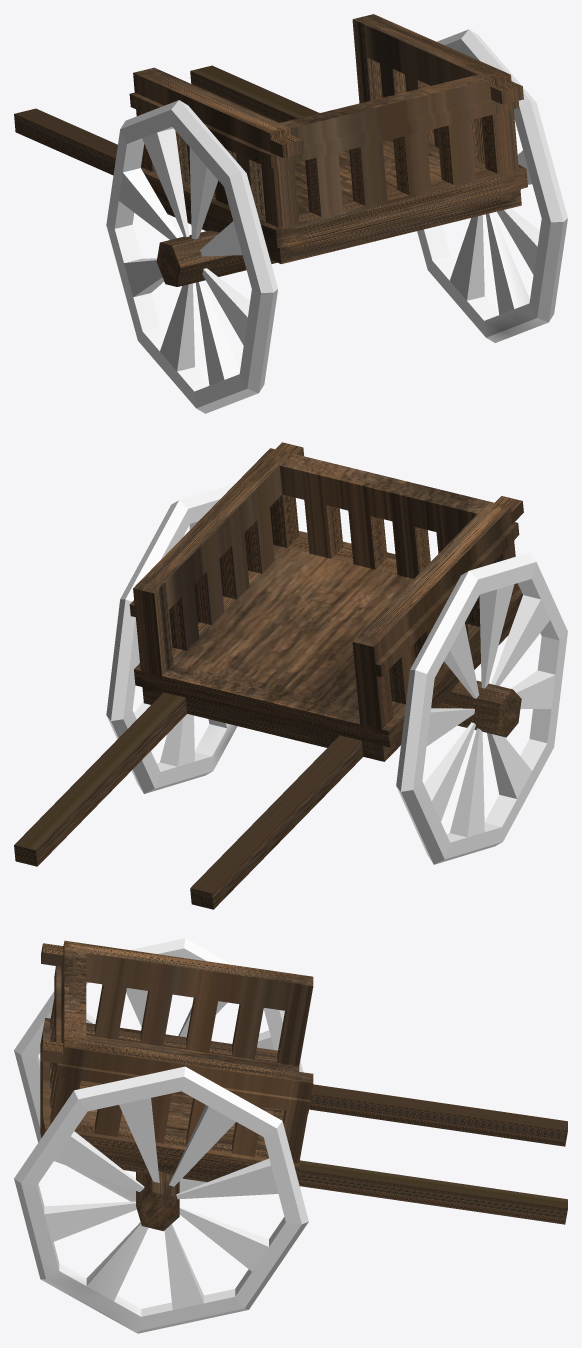
Rendered from WoodenCartWEndAnimation.fbx.
3 renders of one model, top to bottom at view 1: azimuth 30°, elevation 25°; view 2: azimuth 150°, elevation 25°; view 3: azimuth 270°, elevation 25°, orthographic. The views are drawn at different scales.
Parts seen in each view (by area): view 1: Cube, Circle, Cylinder; view 2: Cube, Circle, Cylinder; view 3: Cube, Circle, Cylinder.
Boxes of the visible parts, left/top/right/bottom form: Cube: left=14, top=14, right=527, bottom=264; Circle: left=106, top=29, right=567, bottom=413; Cylinder: left=156, top=189, right=520, bottom=286; Cube: left=14, top=442, right=523, bottom=909; Circle: left=106, top=483, right=567, bottom=864; Cylinder: left=437, top=680, right=521, bottom=737; Cube: left=40, top=940, right=567, bottom=1224; Circle: left=14, top=938, right=308, bottom=1333; Cylinder: left=136, top=1171, right=179, bottom=1231.
Size of the model in its own units: 283 by 241 by 439.
2 materials, 1 textured.
